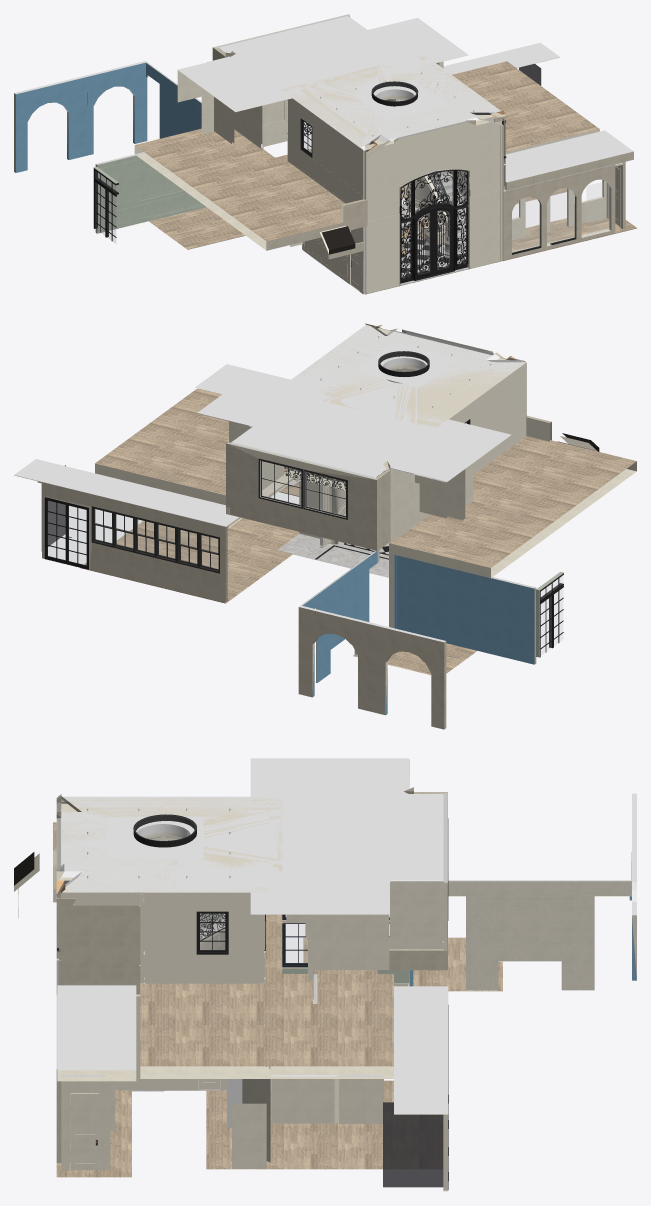
File: entry-c02159702fc1.glb
3 views of the same model, one above another, from view 1: azimuth 30°, elevation 25°; view 2: azimuth 150°, elevation 25°; view 3: azimuth 270°, elevation 25° (orthographic). The views are drawn at different scales.
Parts seen in each view (by area): view 1: entry-look-2575515a05775d9e, entry-look-9d91b47435c6fb33, entry-9d91b47435c6fb33, entry-4edf3a9420c06709, entry-look-969b861f9850351e, entry-e8793759323e04f0, entry-9ca48b730e5de4b2, entry-look-b19b106fc304963c, entry-746250f96522f643, entry-look-dbd60ee5c3733ed6, entry-look-c9e78b9ec1bb39cd, entry-785988ccf932ddd5 (+34 smaller); view 2: entry-look-2575515a05775d9e, entry-look-9d91b47435c6fb33, entry-look-b19b106fc304963c, entry-9d91b47435c6fb33, entry-look-969b861f9850351e, entry-look-245f595ae2832e16, entry-look-3b0077416469e01b, entry-look-bfb9fa537cd11d1d, entry-e8793759323e04f0, entry-look-9a0e9ee9b2a451d7, entry-746250f96522f643, entry-look-3e6709f91b43c3bf (+19 smaller); view 3: entry-look-2575515a05775d9e, entry-look-9d91b47435c6fb33, entry-9d91b47435c6fb33, entry-look-3e6709f91b43c3bf, entry-look-3b0077416469e01b, entry-c51ecd664a3b22a3, entry-look-dbd60ee5c3733ed6, entry-e8793759323e04f0, entry-look-9a0e9ee9b2a451d7, entry-62353aa10fc57f23, entry-look-cbd4bf73d9724a66, entry-look-55ff1dfd7b659ec1 (+22 smaller).
Boxes of the visible parts, bbox=[...] form: entry-look-2575515a05775d9e: bbox=[134, 61, 599, 250]; entry-look-9d91b47435c6fb33: bbox=[178, 16, 468, 112]; entry-9d91b47435c6fb33: bbox=[282, 54, 500, 149]; entry-4edf3a9420c06709: bbox=[365, 120, 503, 221]; entry-look-969b861f9850351e: bbox=[14, 61, 147, 172]; entry-e8793759323e04f0: bbox=[281, 55, 499, 149]; entry-9ca48b730e5de4b2: bbox=[365, 189, 503, 293]; entry-look-b19b106fc304963c: bbox=[95, 152, 202, 233]; entry-746250f96522f643: bbox=[287, 98, 361, 203]; entry-look-dbd60ee5c3733ed6: bbox=[505, 130, 633, 190]; entry-look-c9e78b9ec1bb39cd: bbox=[503, 164, 615, 260]; entry-785988ccf932ddd5: bbox=[366, 118, 503, 220]; entry-look-2575515a05775d9e: bbox=[95, 388, 636, 578]; entry-look-9d91b47435c6fb33: bbox=[197, 371, 510, 481]; entry-look-b19b106fc304963c: bbox=[397, 555, 536, 664]; entry-9d91b47435c6fb33: bbox=[277, 325, 525, 428]; entry-look-969b861f9850351e: bbox=[298, 605, 446, 729]; entry-look-245f595ae2832e16: bbox=[226, 442, 377, 551]; entry-look-3b0077416469e01b: bbox=[80, 518, 476, 674]; entry-look-bfb9fa537cd11d1d: bbox=[42, 482, 227, 602]; entry-e8793759323e04f0: bbox=[279, 325, 525, 427]; entry-look-9a0e9ee9b2a451d7: bbox=[14, 459, 238, 526]; entry-746250f96522f643: bbox=[449, 364, 524, 474]; entry-look-3e6709f91b43c3bf: bbox=[302, 551, 377, 682]; entry-look-2575515a05775d9e: bbox=[53, 822, 393, 1078]; entry-look-9d91b47435c6fb33: bbox=[250, 758, 442, 914]; entry-9d91b47435c6fb33: bbox=[61, 796, 282, 892]; entry-look-3e6709f91b43c3bf: bbox=[448, 880, 631, 989]; entry-look-3b0077416469e01b: bbox=[206, 937, 502, 1169]; entry-c51ecd664a3b22a3: bbox=[145, 892, 264, 983]; entry-look-dbd60ee5c3733ed6: bbox=[57, 985, 136, 1081]; entry-e8793759323e04f0: bbox=[58, 794, 282, 892]; entry-look-9a0e9ee9b2a451d7: bbox=[394, 986, 448, 1114]; entry-62353aa10fc57f23: bbox=[71, 892, 140, 996]; entry-look-cbd4bf73d9724a66: bbox=[383, 1102, 443, 1187]; entry-look-55ff1dfd7b659ec1: bbox=[448, 880, 631, 990].
Size of the model in its own units: 21.07 by 7.02 by 18.
Materials: 64 (11 with a texture image).
